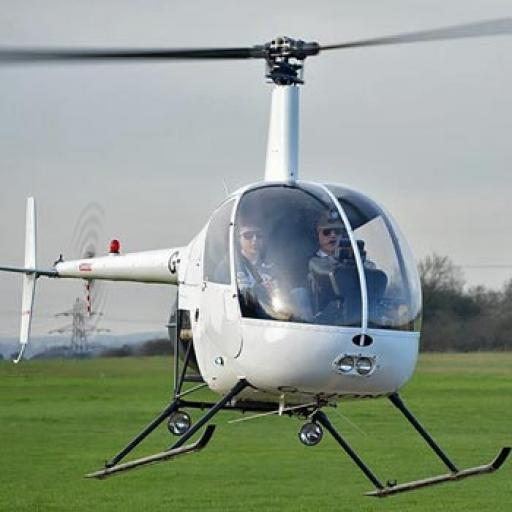helicopter: (3, 28, 510, 493)
